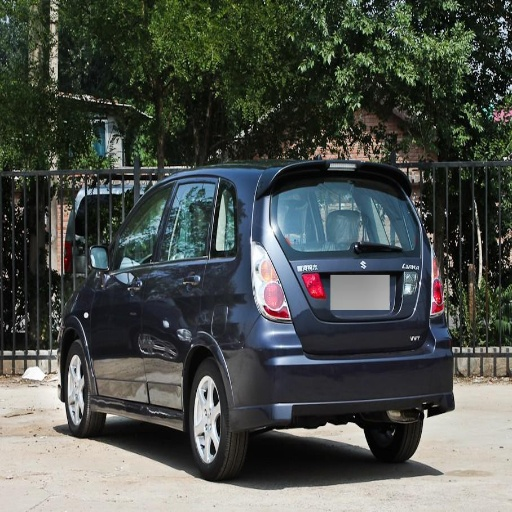back_bumper: (226, 312, 452, 430)
back_glass: (271, 171, 418, 248)
back_left_door: (140, 178, 220, 409)
